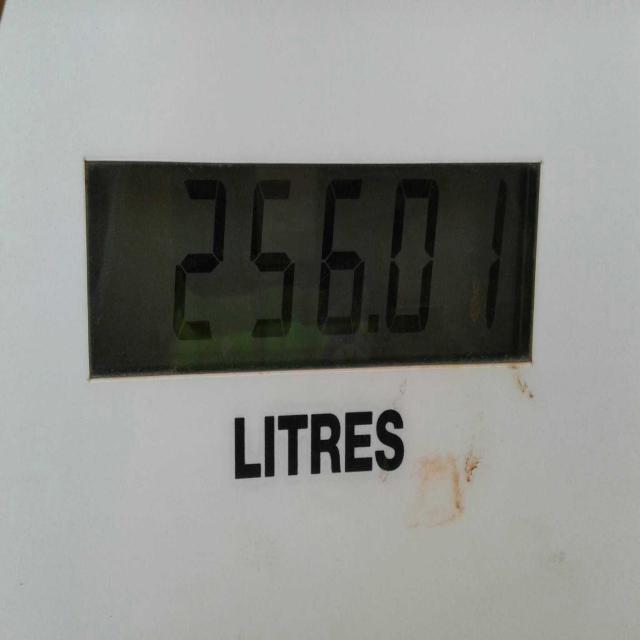.: (365, 306, 384, 344)
0: (381, 177, 442, 348)
1: (469, 168, 516, 334)
2: (163, 166, 230, 360)
5: (232, 170, 299, 352)
6: (314, 172, 368, 343)
